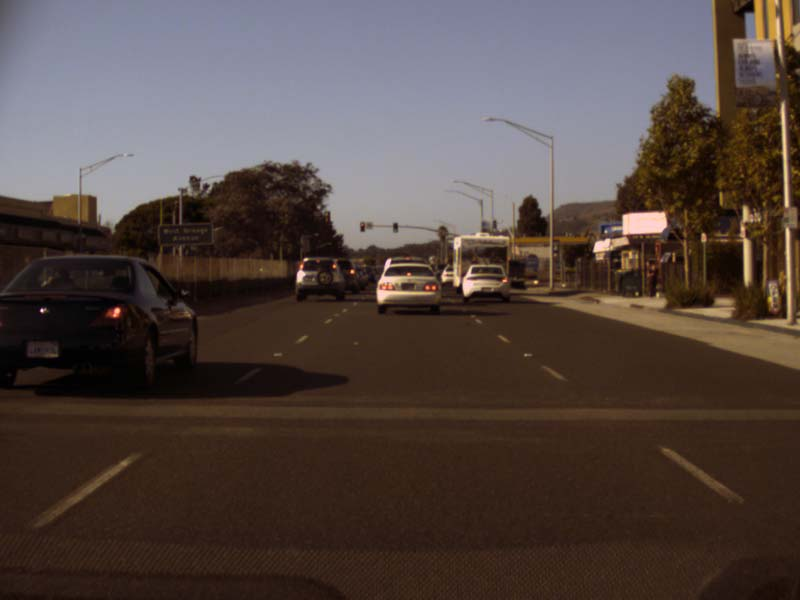Green: (392, 222, 398, 233)
Red: (359, 221, 365, 232)
